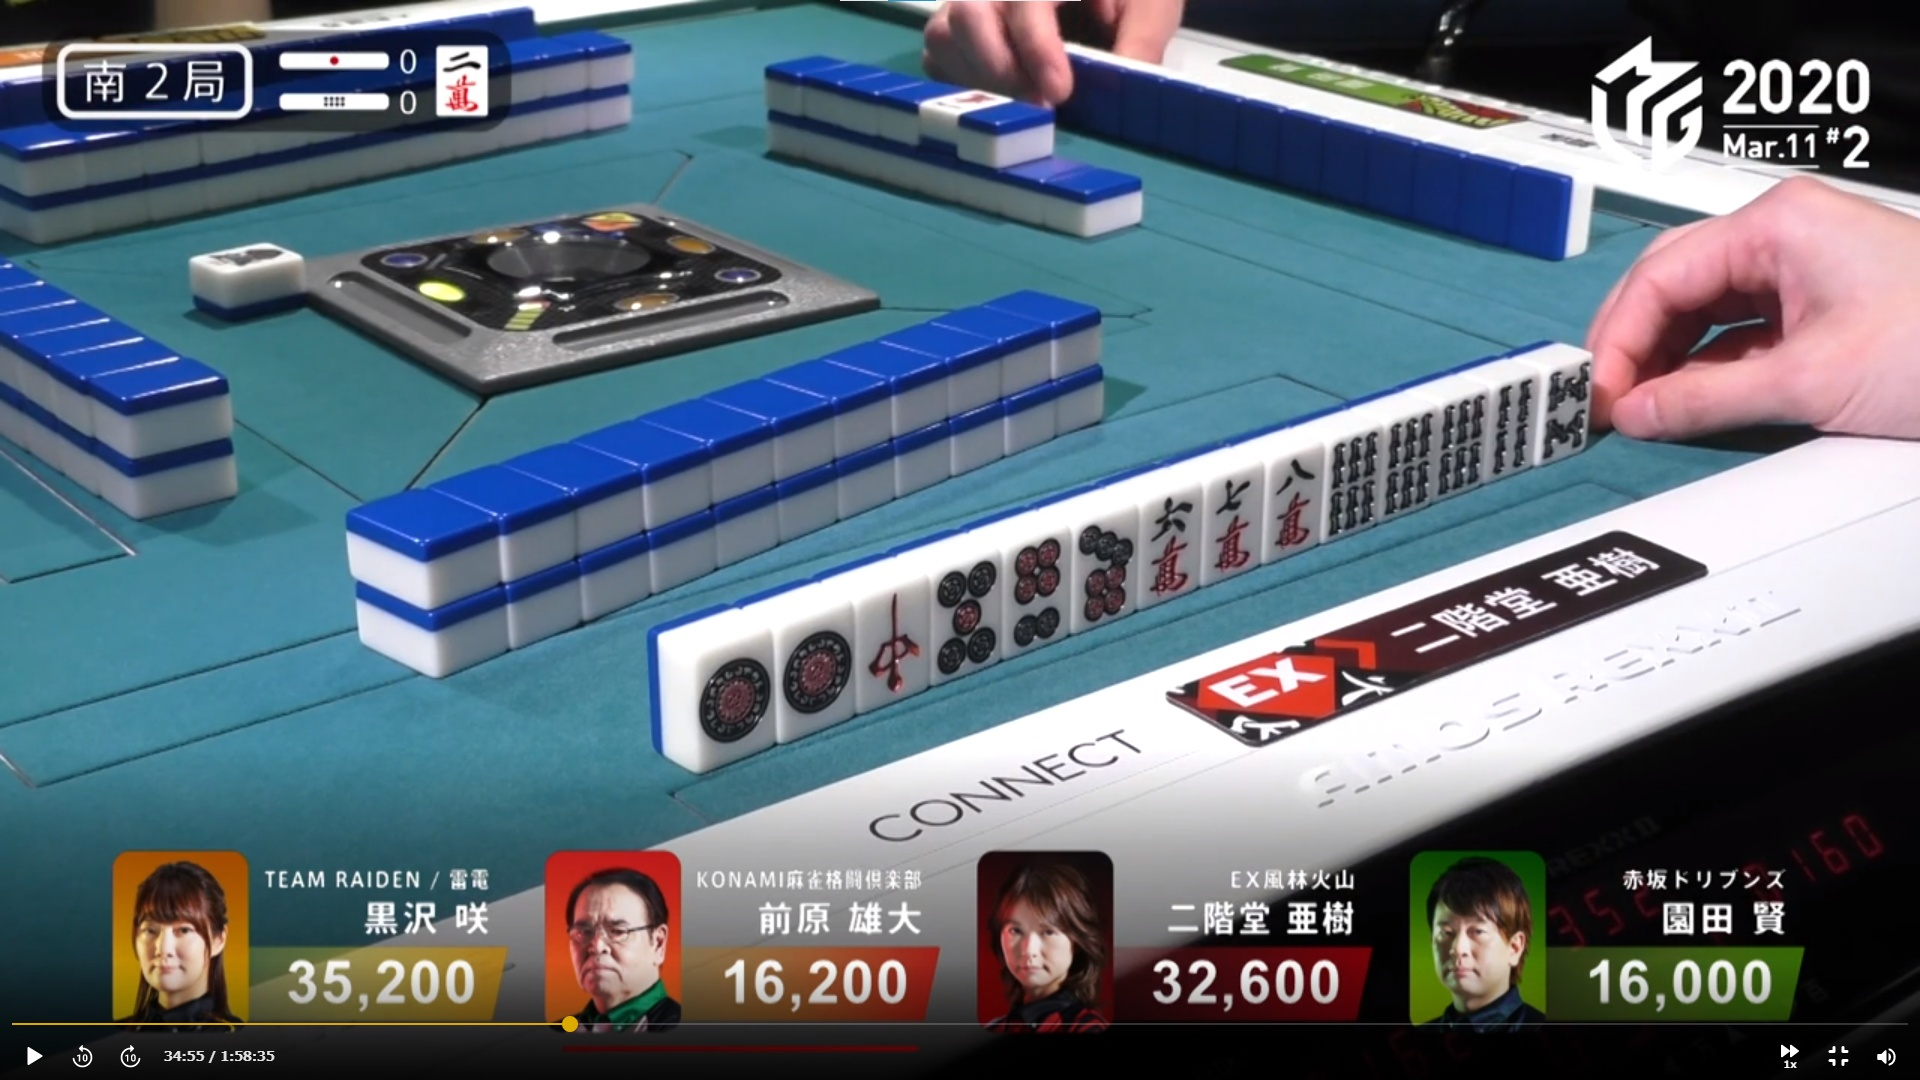1p: (679, 629, 773, 758), (779, 612, 852, 725)
4s: (1487, 377, 1534, 479)
5p: (924, 549, 998, 676)
6m: (1134, 491, 1195, 605)
6p: (1000, 530, 1063, 654)
6s: (1324, 429, 1375, 535), (1383, 407, 1432, 516), (1436, 392, 1482, 492)
7m: (1201, 463, 1255, 574)
7p: (1071, 512, 1131, 622)
8m: (1257, 444, 1313, 560)
8s: (1543, 357, 1585, 455)
chun: (852, 588, 928, 705)
hand_nan_2: (51, 37, 265, 124)
round_0: (270, 87, 427, 119)
team_exfurinkazan: (1162, 618, 1418, 750)
